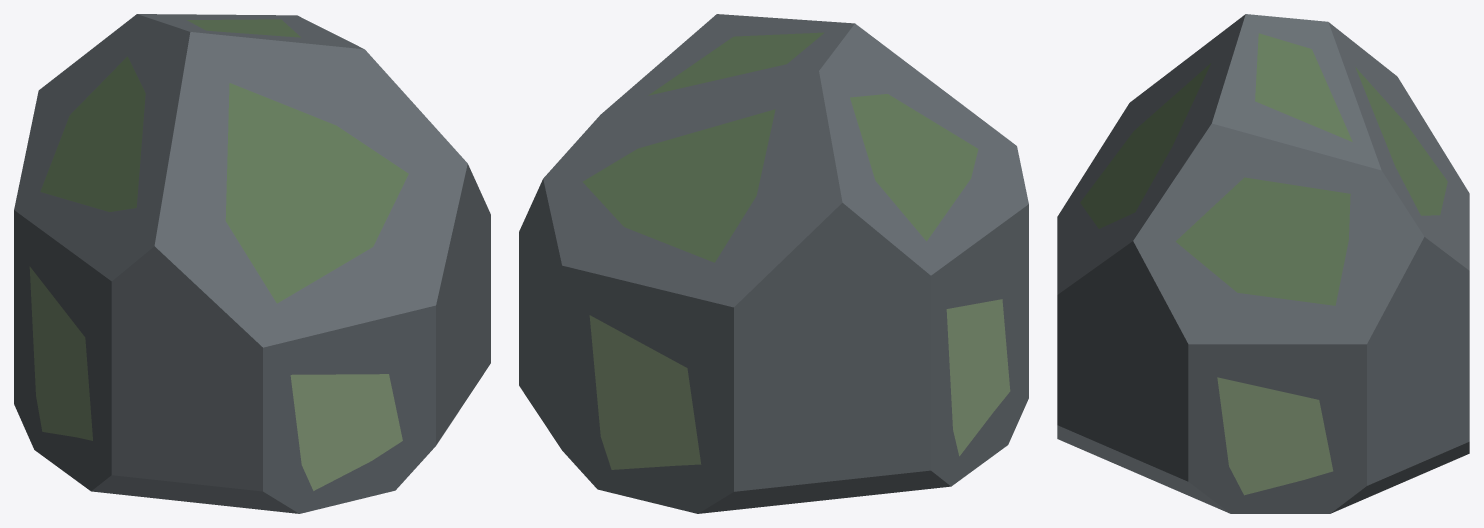
The model's file is tin_ore.glb.
The picture shows the model from 3 angles, left to right: view 1: azimuth 30°, elevation 25°; view 2: azimuth 150°, elevation 25°; view 3: azimuth 270°, elevation 25°; orthographic projection. The views are drawn at different scales.
Parts seen in each view (by area): view 1: tin_ore; view 2: tin_ore; view 3: tin_ore.
Boxes of the visible parts, x1,y1,x2,y2 form: tin_ore: [14, 14, 490, 513]; tin_ore: [519, 14, 1028, 513]; tin_ore: [1057, 14, 1469, 513].
Size of the model in its own units: 0.87 by 0.86 by 0.85.
